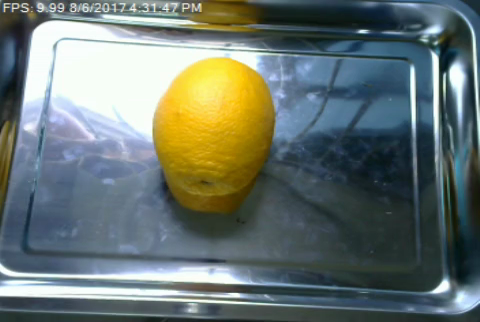Orange: (151, 58, 277, 195)
